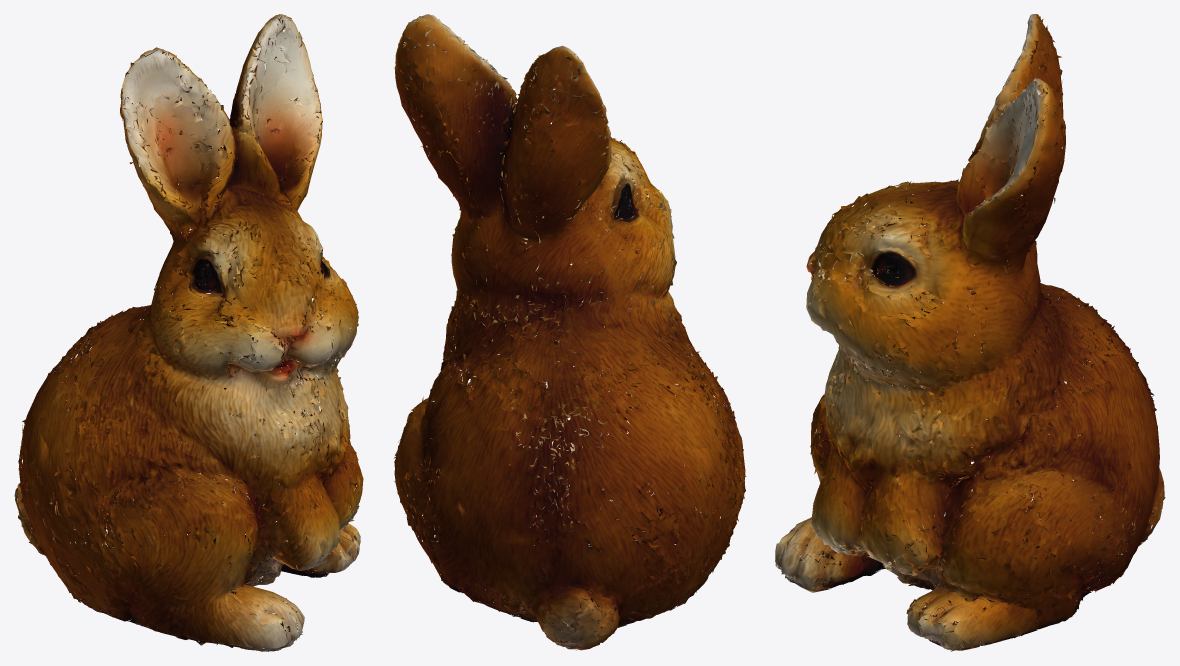
The model's file is rabbit-old.glb.
3 views of the same model, side by side, from view 1: azimuth 30°, elevation 25°; view 2: azimuth 150°, elevation 25°; view 3: azimuth 270°, elevation 25° (orthographic). The views are drawn at different scales.
Visible parts, largest first — view 1: RabbitMesh_1, RabbitMesh_2; view 2: RabbitMesh_1, RabbitMesh_2; view 3: RabbitMesh_1, RabbitMesh_2.
Part boxes in pixels (bbox=[...]): RabbitMesh_1: bbox=[15, 14, 363, 651]; RabbitMesh_2: bbox=[14, 14, 362, 646]; RabbitMesh_1: bbox=[394, 14, 745, 650]; RabbitMesh_2: bbox=[394, 14, 746, 650]; RabbitMesh_1: bbox=[775, 16, 1165, 651]; RabbitMesh_2: bbox=[785, 14, 1164, 650].
Size of the model in its own units: 0.0505 by 0.086 by 0.0546.
Materials: 1 (1 with a texture image).
